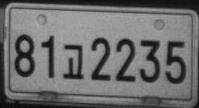1: (40, 35, 61, 78)
2: (89, 36, 111, 81), (114, 37, 136, 81)
3: (139, 39, 161, 84)
5: (164, 40, 187, 85)
8: (13, 33, 35, 77)
고: (62, 43, 84, 80)
